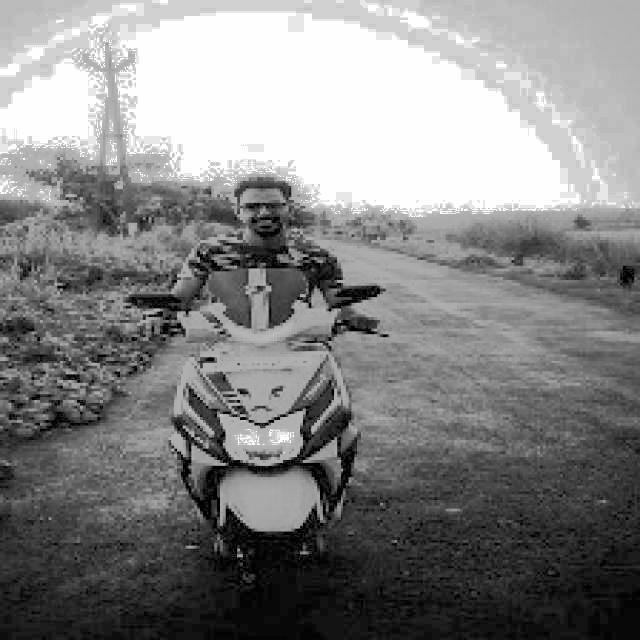Bike: (181, 256, 369, 582)
